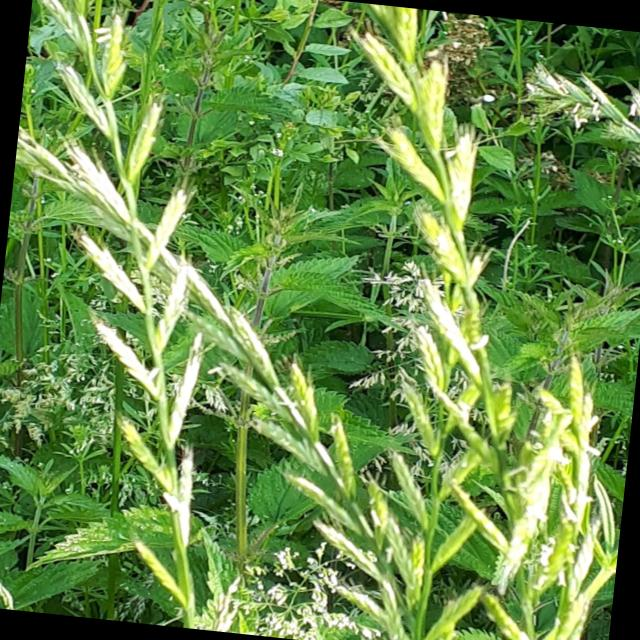Lolium: (287, 3, 640, 640), (0, 0, 270, 629)
